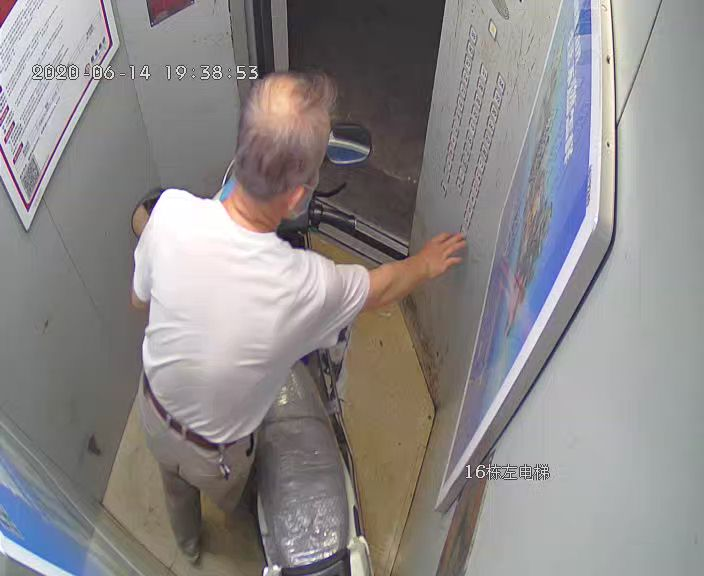Electric-bicycle: (132, 123, 373, 575)
